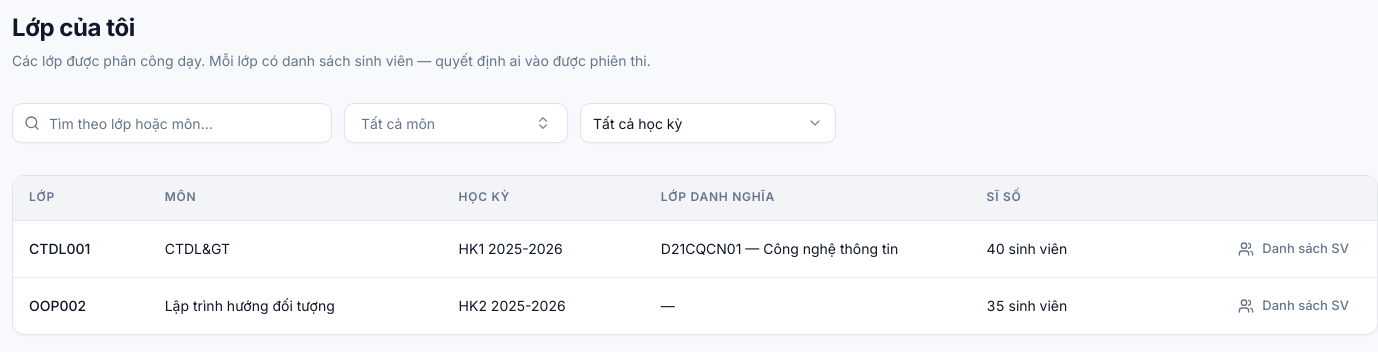
Test: TeacherClassesPage › lọc theo môn — gõ để tìm trong danh sách môn
Click the dropdown named "Lọc theo môn": (456, 123) [344,103,568,143]
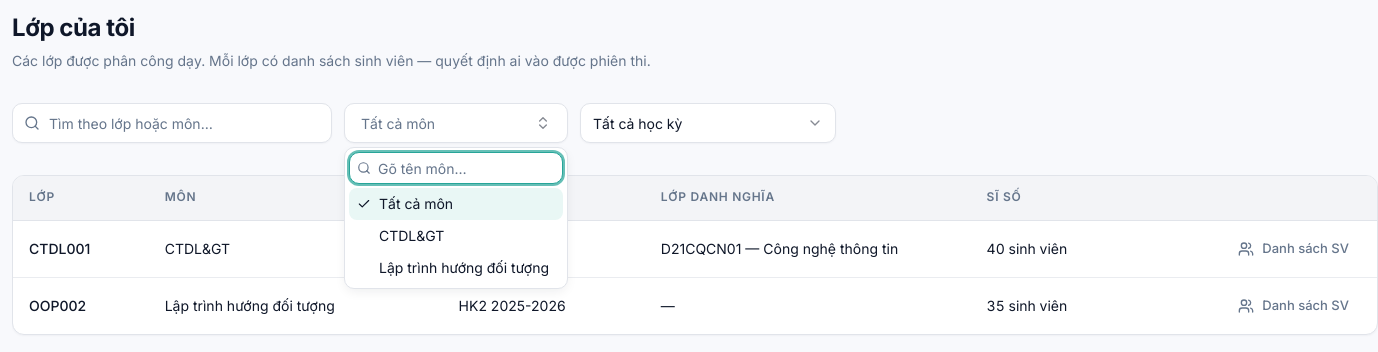
In the field with placeholder "Gõ tên môn…": (456, 168) [349,152,563,184], type "hướng đối"
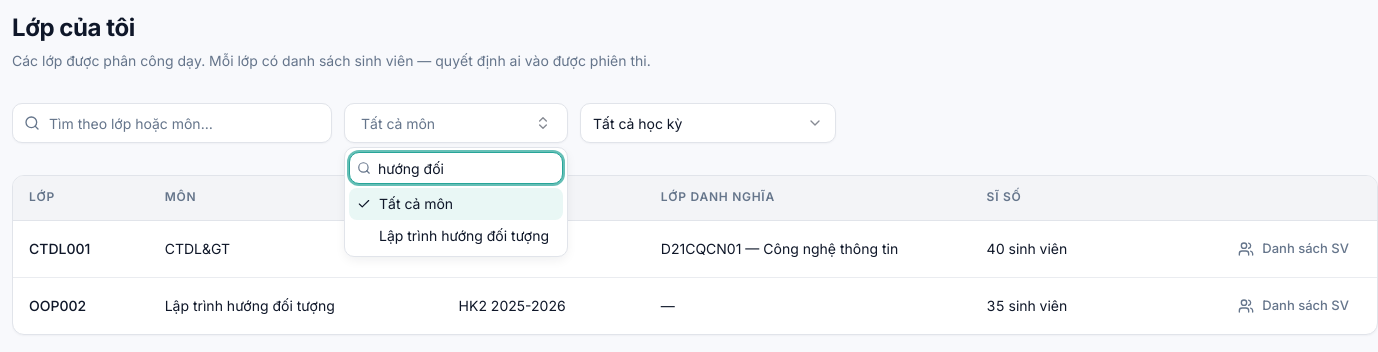
Click the option "Lập trình hướng đối tượng": (456, 236) [349,220,563,252]
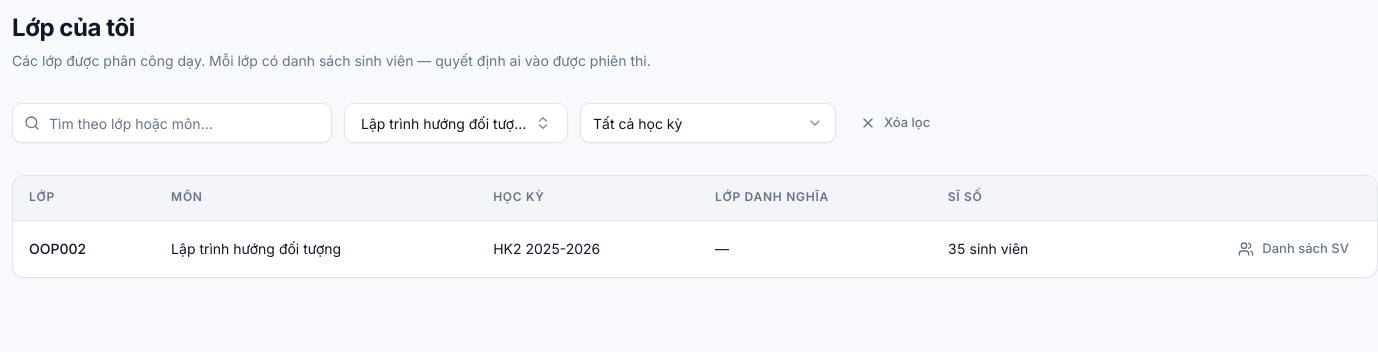
Check: the text "OOP002" is shown, box [13,220,155,276]
Check: the text "CTDL001" is gone
